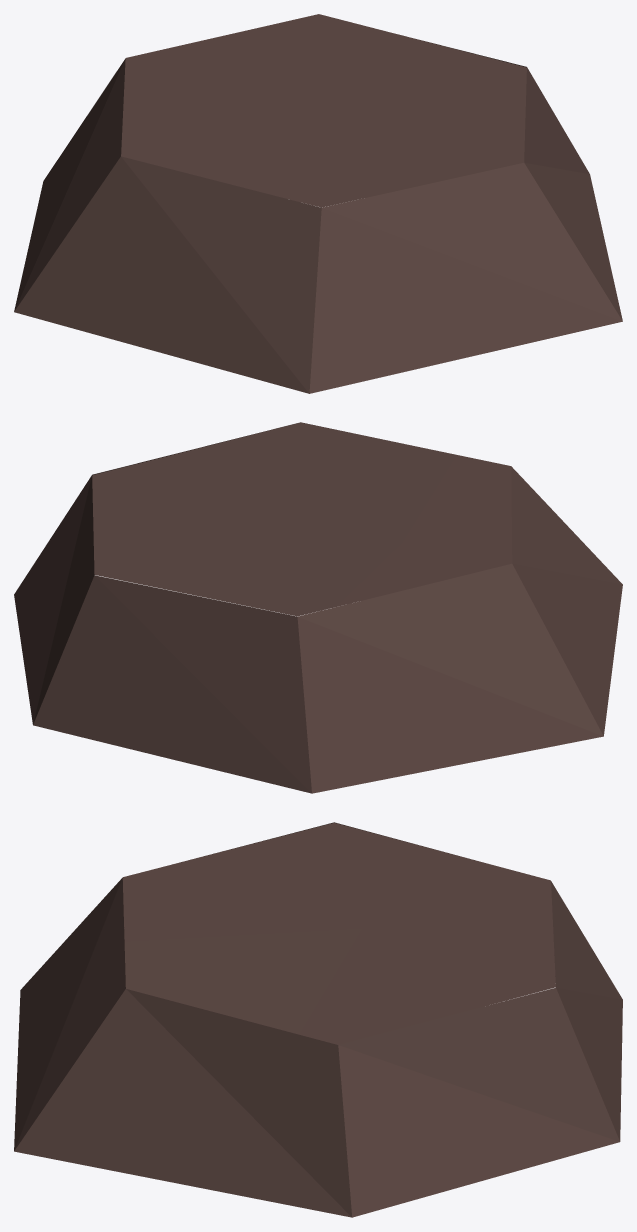
File: kokonut-anim-petit.fbx
The picture shows the model from 3 angles, top to bottom: view 1: azimuth 30°, elevation 25°; view 2: azimuth 150°, elevation 25°; view 3: azimuth 270°, elevation 25°; orthographic projection. The views are drawn at different scales.
Visible parts, largest first — view 1: Base, Couvercle; view 2: Base, Couvercle; view 3: Base, Couvercle.
Part boxes in pixels (x1,y1,x2,y2): Base: [14, 40, 622, 393]; Couvercle: [121, 14, 526, 207]; Base: [14, 422, 622, 793]; Couvercle: [92, 422, 512, 616]; Base: [14, 822, 622, 1217]; Couvercle: [122, 823, 555, 1044].
Size of what is drawn, in the model's own units: 127 by 29.6 by 110.
